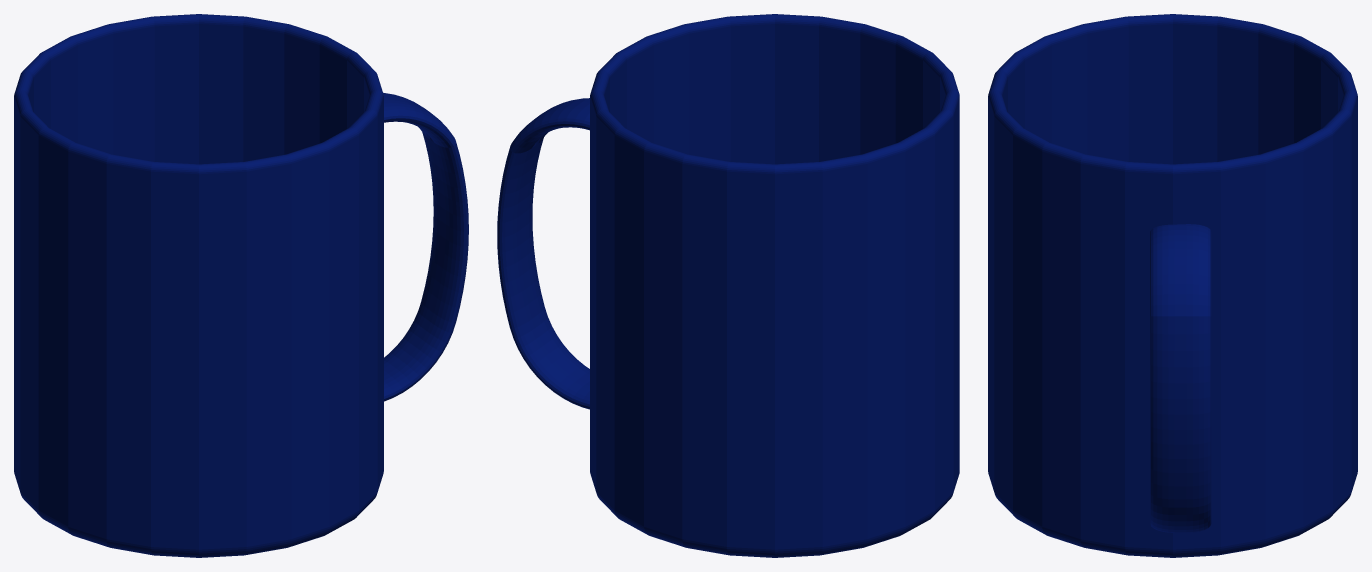
3 renders of one model, left to right at view 1: azimuth 30°, elevation 25°; view 2: azimuth 150°, elevation 25°; view 3: azimuth 270°, elevation 25°, orthographic.
Visible parts, largest first — view 1: mesh2_mesh2-geometry, mesh1_mesh1-geometry; view 2: mesh2_mesh2-geometry, mesh1_mesh1-geometry; view 3: mesh2_mesh2-geometry, mesh1_mesh1-geometry.
Boxes of the visible parts, x1,y1,x2,y2 form: mesh2_mesh2-geometry: [14, 14, 383, 557]; mesh1_mesh1-geometry: [383, 92, 468, 401]; mesh2_mesh2-geometry: [590, 14, 959, 557]; mesh1_mesh1-geometry: [497, 98, 589, 409]; mesh2_mesh2-geometry: [988, 14, 1357, 557]; mesh1_mesh1-geometry: [1150, 224, 1211, 532].
Bounding box in the file's own units: 0.6506 × 0.5793 × 0.491.
